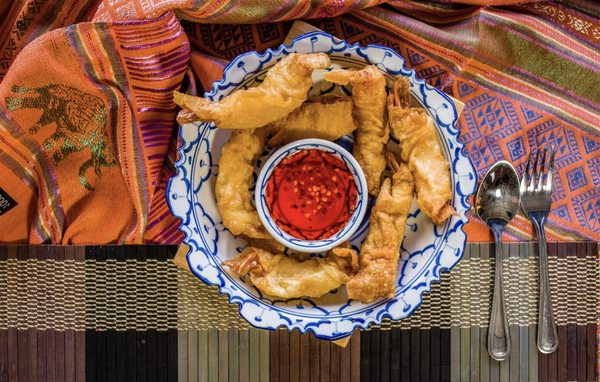salad: (474, 161, 536, 366)
sushi: (253, 138, 370, 255)
